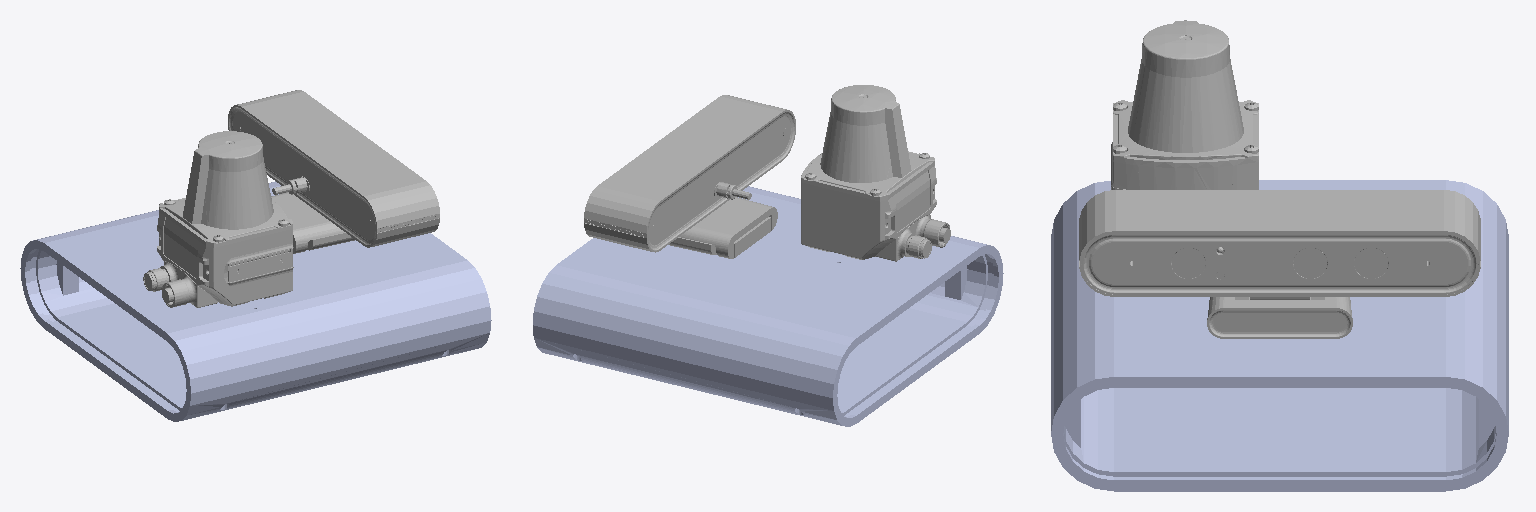
URDF robot description (gsfm_description):
<?xml version='1.0' encoding='utf-8'?>
<robot name="gsfm_description">

  <link name="world_link" />
  <joint name="world_to_base" type="fixed">
    <parent link="world_link" />
    <child link="base_link" />
    <origin xyz="0 0 0" rpy="0 0 0" />
  </joint>

  <link name="base_link">
    <inertial>
      <origin xyz="-0.00384554710665571 0.00858554498742772 -0.0257540058924568" rpy="0 0 0" />
      <mass value="0.397638285996351" />
      <inertia ixx="0.00140449326145997" ixy="4.57975120748758E-08" ixz="4.48679958668766E-09" iyy="0.00119308023227631" iyz="-3.2677555262255E-09" izz="0.00256630274510629" />
    </inertial>
    <visual>
      <origin xyz="0 0 0" rpy="0 0 0" />
      <geometry>
        <mesh filename="package://gsfm_description/meshes/base_link.STL" />
      </geometry>
      <material name="">
        <color rgba="0.792156862745098 0.819607843137255 0.933333333333333 1" />
      </material>
    </visual>
    <collision>
      <origin xyz="0 0 0" rpy="0 0 0" />
      <geometry>
        <mesh filename="package://gsfm_description/meshes/base_link.STL" />
      </geometry>
    </collision>
  </link>
  <link name="laser_link">
    <inertial>
      <origin xyz="-0.00207366821030121 -3.13393386247446E-05 -0.0272592943990869" rpy="0 0 0" />
      <mass value="0.208750664901466" />
      <inertia ixx="0.000140221415081061" ixy="8.46088329914073E-09" ixz="2.5114058518027E-06" iyy="0.00013732443422994" iyz="-4.57939634056678E-08" izz="9.31255483694291E-05" />
    </inertial>
    <visual>
      <origin xyz="0 0 0" rpy="0 0 0" />
      <geometry>
        <mesh filename="package://gsfm_description/meshes/laser_link.STL" />
      </geometry>
      <material name="">
        <color rgba="0.752941176470588 0.752941176470588 0.752941176470588 1" />
      </material>
    </visual>
    <collision>
      <origin xyz="0 0 0" rpy="0 0 0" />
      <geometry>
        <mesh filename="package://gsfm_description/meshes/laser_link.STL" />
      </geometry>
    </collision>
  </link>
  <joint name="laser_joint" type="fixed">
    <origin xyz="-0.0423409050707997 -0.0300177645431443 0.0653652915318988" rpy="0 0 0" />
    <parent link="base_link" />
    <child link="laser_link" />
    <axis xyz="0 0 0" />
  </joint>
  <link name="camera_link">
    <inertial>
      <origin xyz="-0.0160046254646865 -0.0375030294488165 -0.00470050800215642" rpy="0 0 0" />
      <mass value="0.220446940128425" />
      <inertia ixx="0.000406101931309108" ixy="4.49920896189193E-08" ixz="1.58793308343964E-07" iyy="4.67237499084941E-05" iyz="2.0239262733308E-09" izz="0.000425228480870778" />
    </inertial>
    <visual>
      <origin xyz="0 0 0" rpy="0 0 0" />
      <geometry>
        <mesh filename="package://gsfm_description/meshes/camera_link.STL" />
      </geometry>
      <material name="">
        <color rgba="0.752941176470588 0.752941176470588 0.752941176470588 1" />
      </material>
    </visual>
    <collision>
      <origin xyz="0 0 0" rpy="0 0 0" />
      <geometry>
        <mesh filename="package://gsfm_description/meshes/camera_link.STL" />
      </geometry>
    </collision>
  </link>
  <joint name="camera_joint" type="fixed">
    <origin xyz="0.0600690949305007 0.0460822729755588 0.039125811033298596" rpy="0 0 0" />
    <parent link="base_link" />
    <child link="camera_link" />
    <axis xyz="0 0 0" />
  </joint>
  <link name="imu_link">
    <inertial>
      <origin xyz="-0.0215090949287321 -0.0447830082297362 0.0407741889670015" rpy="0 0 0" />
      <mass value="0.943685156899018" />
      <inertia ixx="0.00351666454931782" ixy="-0.000358480659829109" ixz="-1.72011948894583E-05" iyy="0.00382689490264757" iyz="0.000265016547916053" izz="0.00513167733243875" />
    </inertial>
    <visual>
      <origin xyz="0 0 0" rpy="0 0 0" />
      <geometry>
        <mesh filename="package://gsfm_description/meshes/imu_link.STL" />
      </geometry>
      <material name="">
        <color rgba="0.792156862745098 0.819607843137255 0.933333333333333 1" />
      </material>
    </visual>
    <collision>
      <origin xyz="0 0 0" rpy="0 0 0" />
      <geometry>
        <mesh filename="package://gsfm_description/meshes/imu_link.STL" />
      </geometry>
    </collision>
  </link>
  <joint name="imu_joint" type="fixed">
    <origin xyz="0.0215090949305007 0.0447830082299264 -0.0407741889667037" rpy="0 0 0" />
    <parent link="base_link" />
    <child link="imu_link" />
    <axis xyz="0 0 0" />
  </joint>
</robot>

--- Render facts (derived) ---
Views: 3 orthographic renders of the robot side by side, from view 1: azimuth 30°, elevation 25°; view 2: azimuth 150°, elevation 25°; view 3: azimuth 270°, elevation 25°.
Robot: gsfm_description — 5 links, 4 joints (4 fixed); root link world_link; default pose: every joint at zero.
Links seen in each view (by area): view 1: base_link, camera_link, laser_link; view 2: base_link, camera_link, laser_link; view 3: base_link, camera_link, laser_link.
Link boxes in pixels (x1=…): base_link: x1=20, y1=181, x2=491, y2=421; camera_link: x1=228, y1=90, x2=439, y2=253; laser_link: x1=143, y1=131, x2=293, y2=307; base_link: x1=533, y1=186, x2=1003, y2=426; camera_link: x1=584, y1=95, x2=795, y2=258; laser_link: x1=801, y1=85, x2=950, y2=261; base_link: x1=1051, y1=180, x2=1508, y2=491; camera_link: x1=1079, y1=190, x2=1480, y2=338; laser_link: x1=1111, y1=20, x2=1258, y2=189.
Size in the robot's own frame: 0.191 by 0.188 by 0.1428 metres.
3 mesh visuals loaded from 4 distinct referenced files (3 binary STL); not drawn: 1 (reference not matched to a file when rendering).